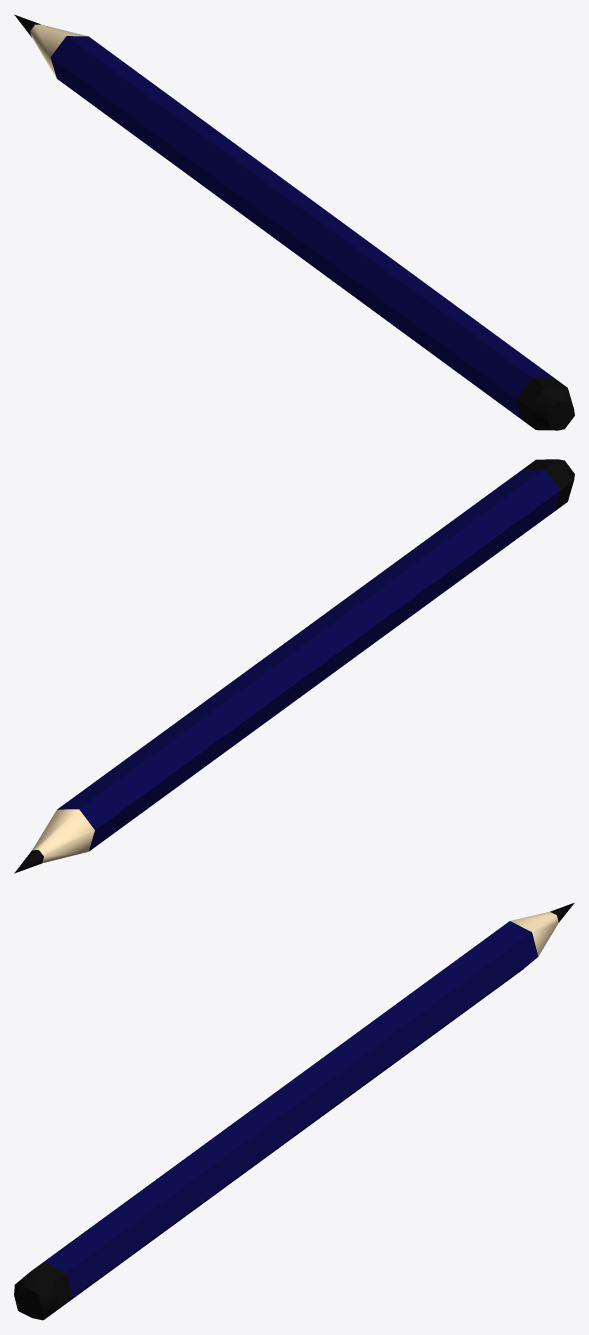
Rendered from Stationary_Pencil_01.fbx.
3 renders of one model, top to bottom at view 1: azimuth 30°, elevation 25°; view 2: azimuth 150°, elevation 25°; view 3: azimuth 330°, elevation 25°, orthographic.
Parts seen in each view (by area): view 1: Pencil_01; view 2: Pencil_01; view 3: Pencil_01.
Boxes of the visible parts, x1=… form: Pencil_01: x1=14, y1=14, x2=574, y2=430; Pencil_01: x1=14, y1=459, x2=574, y2=873; Pencil_01: x1=14, y1=902, x2=574, y2=1320.
Bounding box in the file's own units: 1.08 × 1.07 × 22.83.
